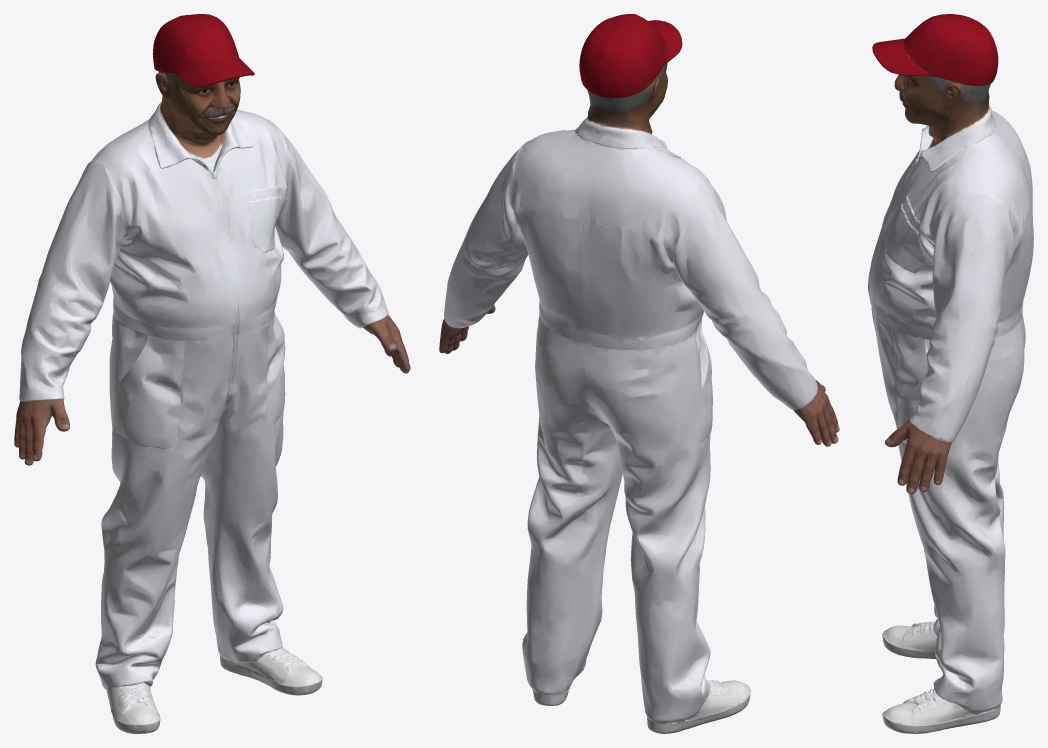
Rendered from pista-moletom-4ef0bb189d20.glb.
3 views of the same model, side by side, from view 1: azimuth 30°, elevation 25°; view 2: azimuth 150°, elevation 25°; view 3: azimuth 270°, elevation 25° (orthographic).
Bounding box in the file's own units: 1.06 × 1.79 × 0.4009.
Materials: 1 (1 with a texture image).
